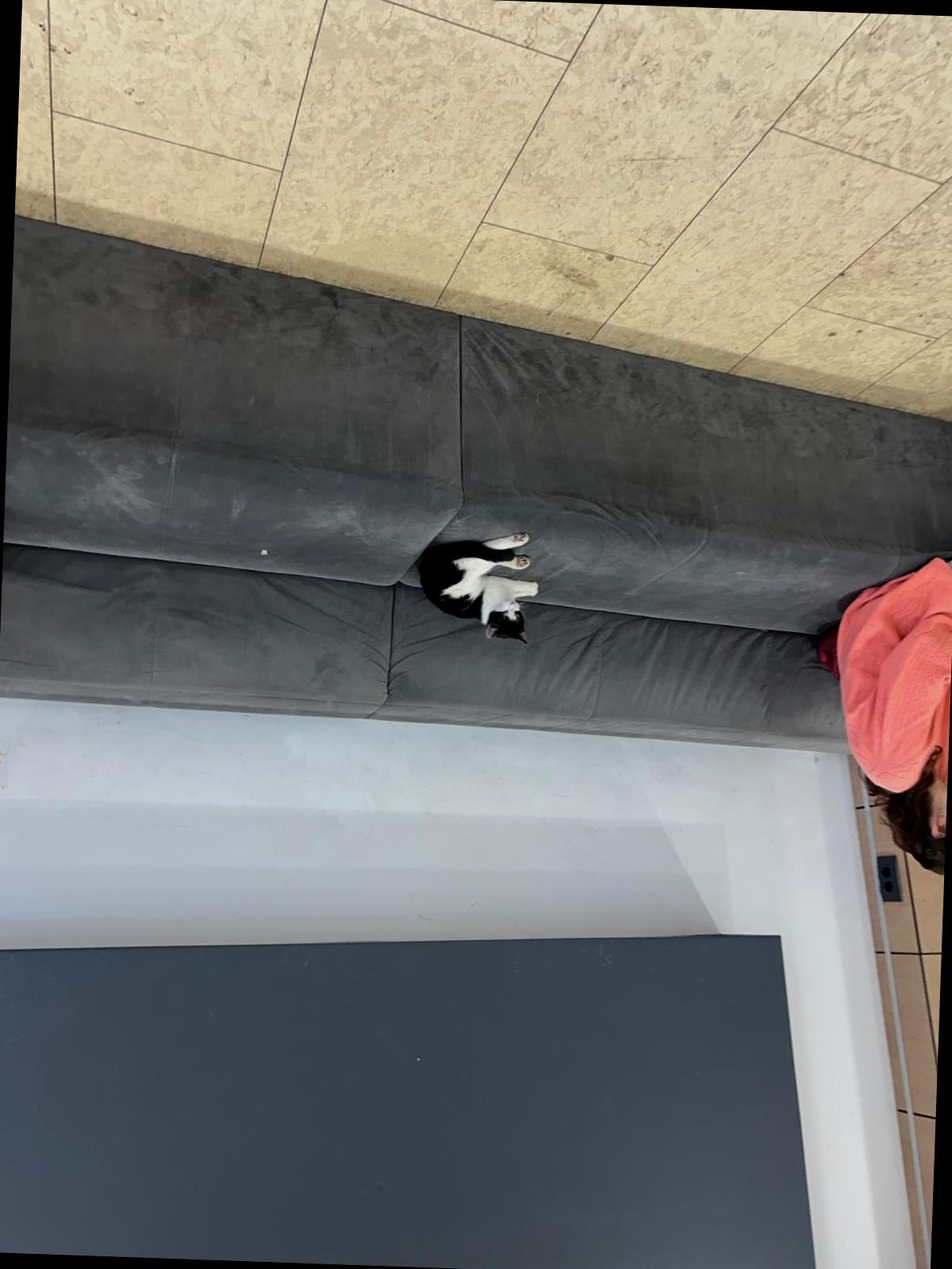macka: (414, 528, 540, 645)
